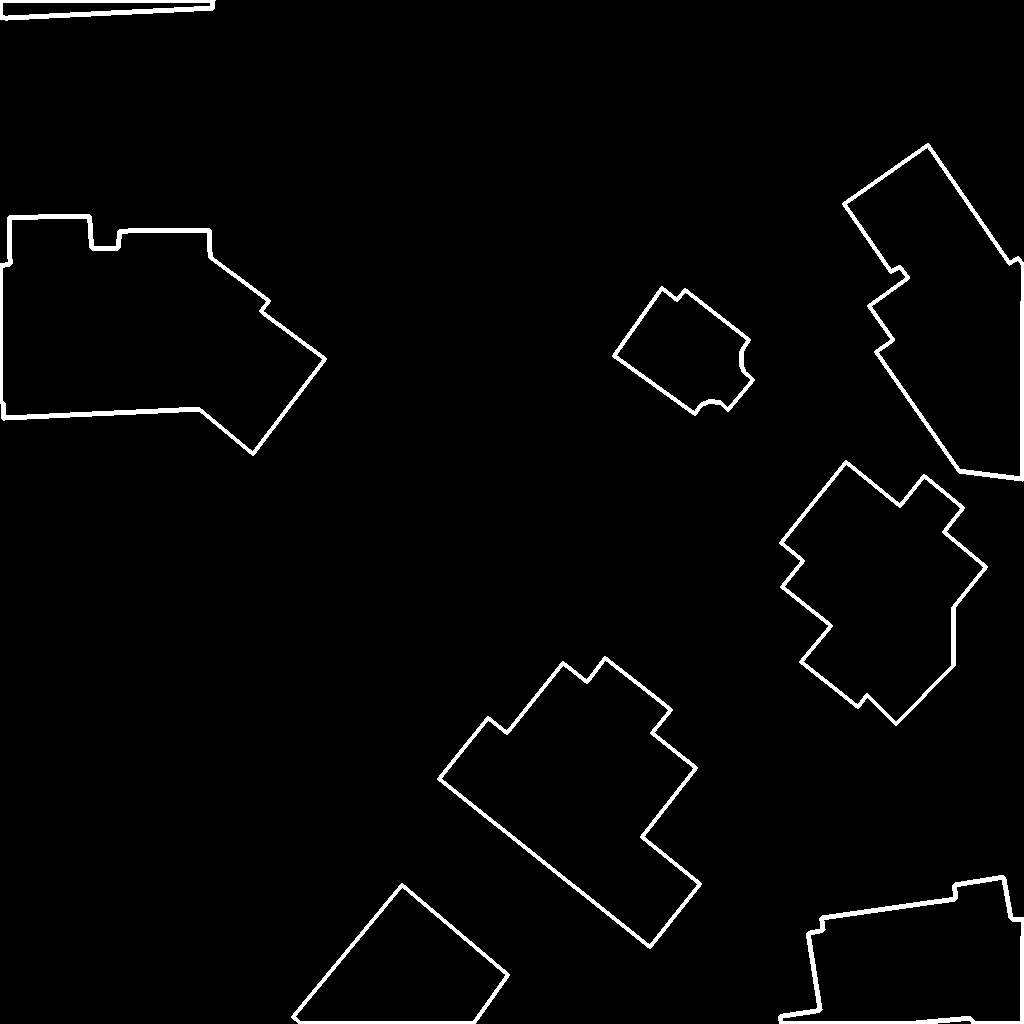building: (0, 216, 326, 455), (439, 658, 701, 948), (844, 145, 1024, 480), (781, 462, 987, 725), (780, 877, 1024, 1024), (293, 885, 509, 1024), (614, 288, 754, 415), (0, 0, 214, 19)
